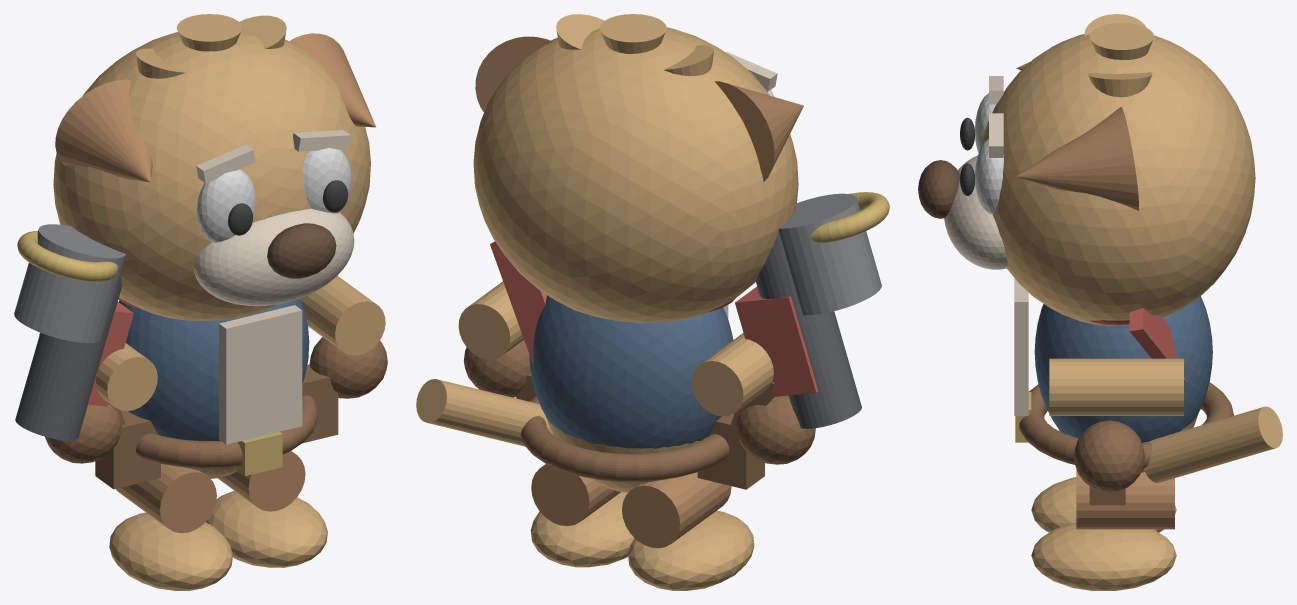
Rendered from Brisky_Prototype_V1.glb.
3 renders of one model, left to right at view 1: azimuth 30°, elevation 25°; view 2: azimuth 150°, elevation 25°; view 3: azimuth 270°, elevation 25°, orthographic. The views are drawn at different scales.
Visible parts, largest first — view 1: head, shirt, vest, muzzle, gun_outer, foot_-1, gun_body, ear_-1, foot_1, arm_1, leg_-1, belt (+20 smaller); view 2: head, vest, gun_outer, gun_body, foot_-1, belt, leg_-1, tail, gun_core, foot_1, arm_-1, glove_-1 (+12 smaller); view 3: head, vest, arm_1, foot_1, ear_1, tail, leg_1, glove_1, muzzle, belt, shirt, tuft_1 (+9 smaller).
Boxes of the visible parts, bbox=[...] form: head: bbox=[53, 30, 370, 320]; shirt: bbox=[219, 305, 302, 444]; vest: bbox=[118, 298, 309, 440]; muzzle: bbox=[194, 208, 354, 306]; gun_outer: bbox=[14, 224, 125, 342]; foot_-1: bbox=[109, 512, 232, 590]; gun_body: bbox=[15, 276, 121, 440]; ear_-1: bbox=[55, 79, 152, 182]; foot_1: bbox=[206, 490, 327, 567]; arm_1: bbox=[300, 276, 385, 355]; leg_-1: bbox=[116, 464, 216, 533]; belt: bbox=[136, 395, 317, 468]; head: bbox=[473, 27, 798, 322]; vest: bbox=[529, 295, 733, 448]; gun_outer: bbox=[778, 193, 881, 315]; gun_body: bbox=[755, 233, 861, 428]; foot_-1: bbox=[628, 510, 754, 590]; belt: bbox=[520, 395, 729, 481]; leg_-1: bbox=[622, 472, 731, 548]; tail: bbox=[416, 379, 553, 446]; gun_core: bbox=[735, 286, 818, 397]; foot_1: bbox=[530, 492, 634, 567]; arm_-1: bbox=[691, 333, 773, 416]; glove_-1: bbox=[736, 395, 815, 464]; head: bbox=[981, 34, 1255, 325]; vest: bbox=[1034, 296, 1212, 442]; arm_1: bbox=[1049, 358, 1183, 415]; foot_1: bbox=[1031, 522, 1176, 590]; ear_1: bbox=[1016, 106, 1138, 210]; tail: bbox=[1143, 406, 1282, 482]; leg_1: bbox=[1076, 469, 1174, 529]; glove_1: bbox=[1074, 420, 1144, 492]; muzzle: bbox=[944, 155, 1007, 269]; belt: bbox=[1019, 382, 1233, 470]; shirt: bbox=[1014, 278, 1028, 415]; tuft_1: bbox=[1089, 23, 1154, 59].
Size of the model in its own units: 2.41 by 3.22 by 2.03.
